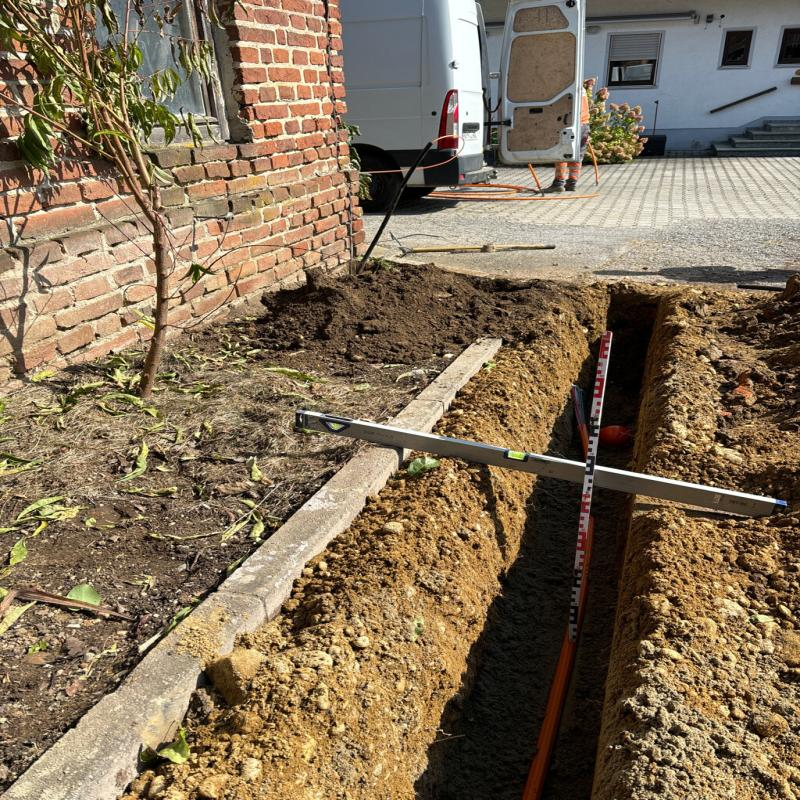Kugelmarker: (598, 425, 631, 449)
Orang-Speednetrohrchen: (523, 517, 595, 800)
